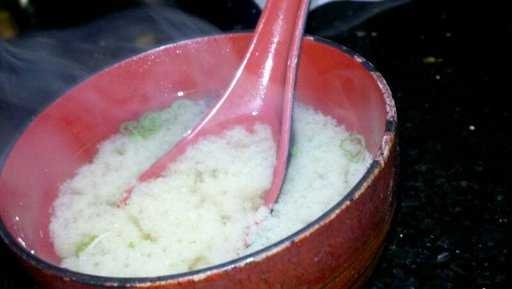soup: (25, 46, 385, 273)
